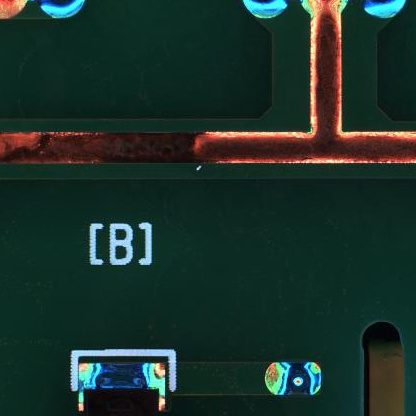spot: (265, 359, 323, 397)
